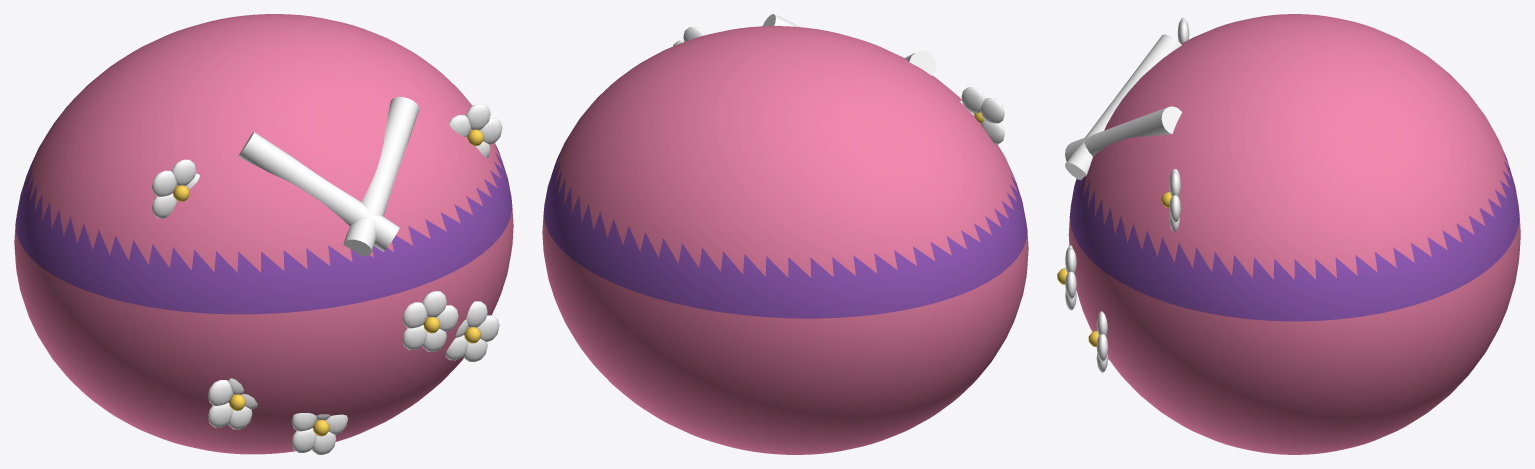
The model's file is sakura_kimono.fbx.
3 views of the same model, side by side, from view 1: azimuth 30°, elevation 25°; view 2: azimuth 150°, elevation 25°; view 3: azimuth 270°, elevation 25° (orthographic). The views are drawn at different scales.
Visible parts, largest first — view 1: Sphere114, Cylinder028, Cylinder029, Sphere141, Sphere117, Sphere147, Sphere140, Sphere134, Sphere146; view 2: Sphere114, Sphere141, Sphere140; view 3: Sphere114, Cylinder029, Cylinder028.
Part boxes in pixels (bbox=[...]): Sphere114: bbox=[14, 14, 513, 454]; Cylinder028: bbox=[238, 132, 399, 251]; Cylinder029: bbox=[343, 97, 418, 256]; Sphere141: bbox=[152, 170, 176, 196]; Sphere117: bbox=[208, 380, 232, 405]; Sphere147: bbox=[402, 302, 427, 328]; Sphere140: bbox=[172, 159, 196, 185]; Sphere134: bbox=[466, 104, 490, 130]; Sphere146: bbox=[422, 291, 446, 317]; Sphere114: bbox=[542, 26, 1028, 454]; Sphere141: bbox=[980, 98, 1004, 123]; Sphere140: bbox=[961, 87, 985, 113]; Sphere114: bbox=[1068, 14, 1520, 454]; Cylinder029: bbox=[1065, 106, 1181, 161]; Cylinder028: bbox=[1065, 34, 1181, 180].
Size of the model in its own units: 15.6 by 13.2 by 14.36.
